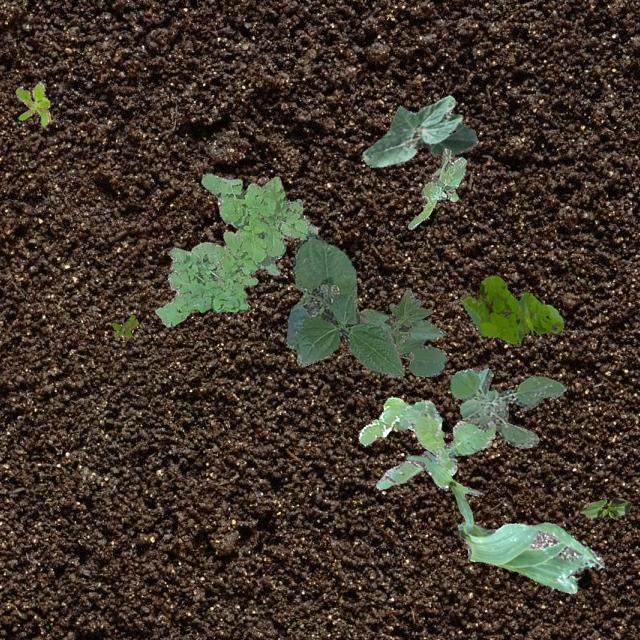crop: (284, 232, 404, 376), (458, 520, 604, 592), (360, 95, 478, 167), (356, 288, 446, 376), (406, 450, 480, 532), (578, 497, 630, 518)
weed: (154, 172, 316, 326), (358, 396, 496, 488), (448, 367, 566, 448), (458, 274, 562, 344), (406, 148, 466, 228), (15, 81, 50, 126), (110, 314, 136, 336)
